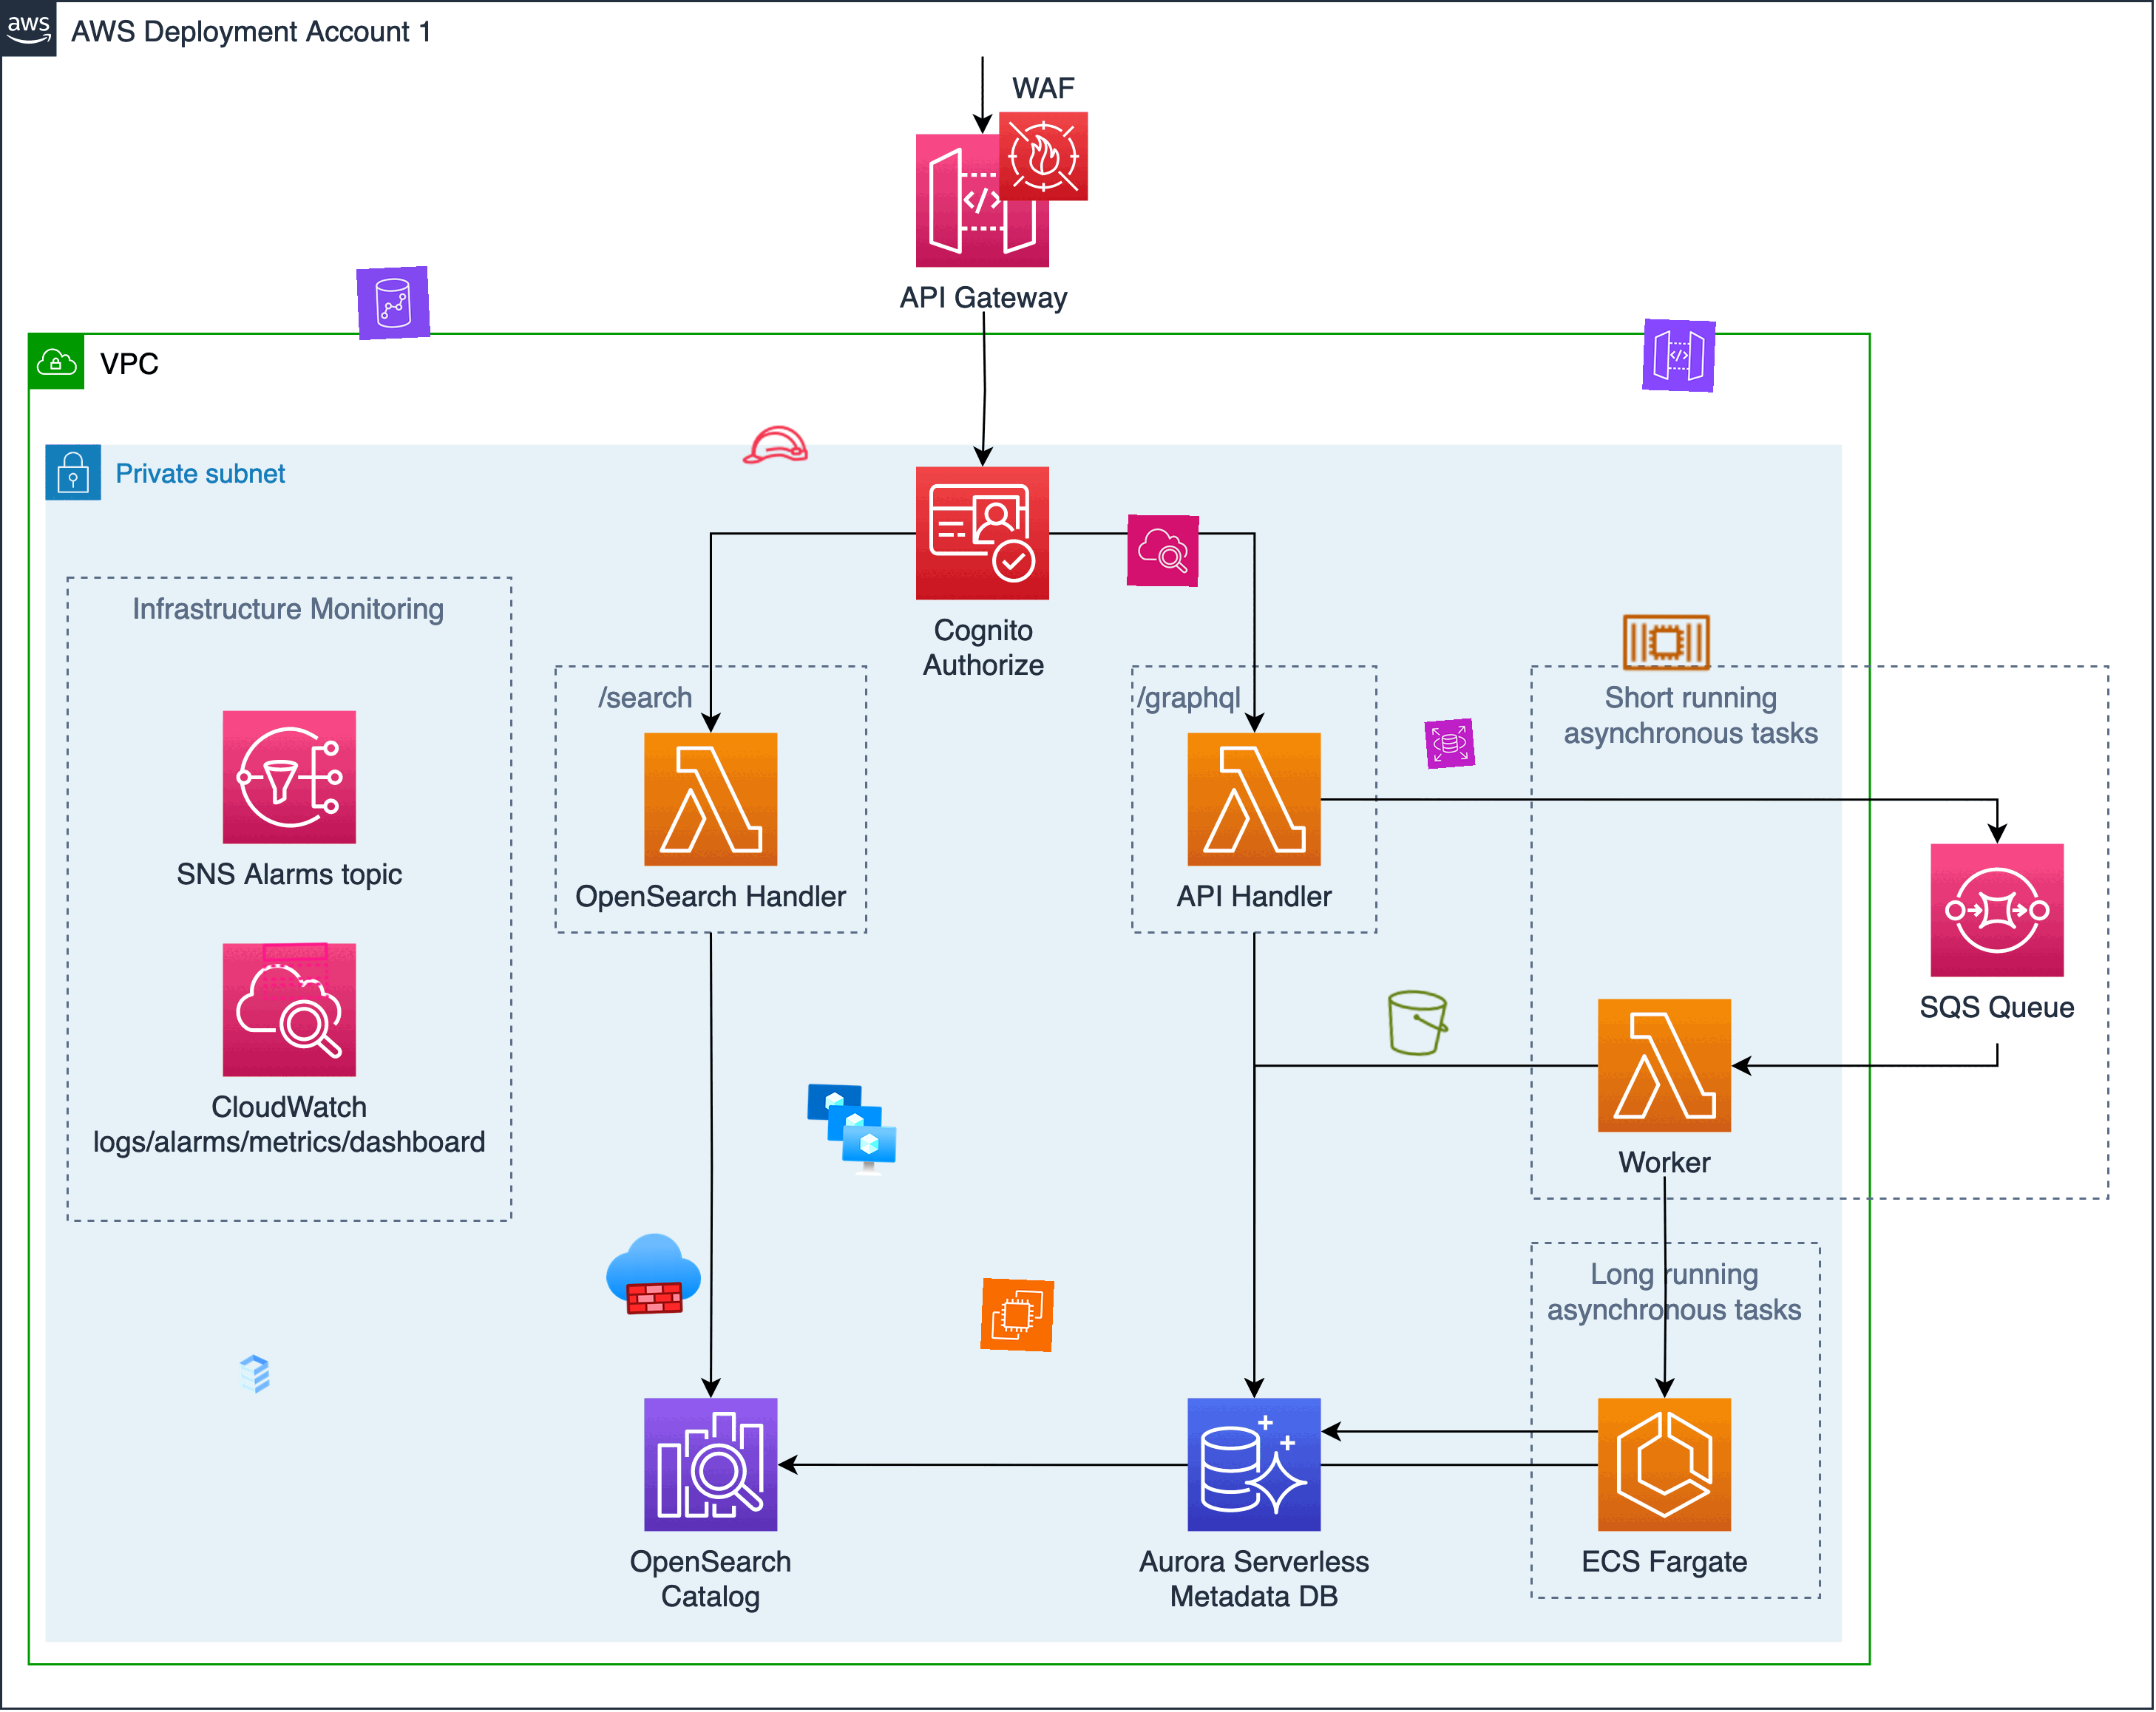aws_amazon_api_gateway: (1642, 318, 1717, 392)
aws_amazon_cloudwatch: (1127, 514, 1199, 588)
aws_amazon_ec2: (980, 1278, 1053, 1352)
aws_amazon_rds: (1425, 717, 1475, 769)
aws_amazon_redshift: (355, 266, 431, 341)
aws_elastic_container_service_container_2: (1619, 595, 1715, 691)
aws_identity_access_management_role: (738, 407, 812, 483)
aws_simple_notification_service_topic: (259, 934, 332, 1009)
aws_simple_storage_service_s3_standard: (1379, 985, 1456, 1061)
azure_firewalls: (604, 1224, 703, 1324)
azure_vm_scale_sets: (801, 1079, 900, 1177)
gcp_cloud_sql: (229, 1348, 280, 1399)
